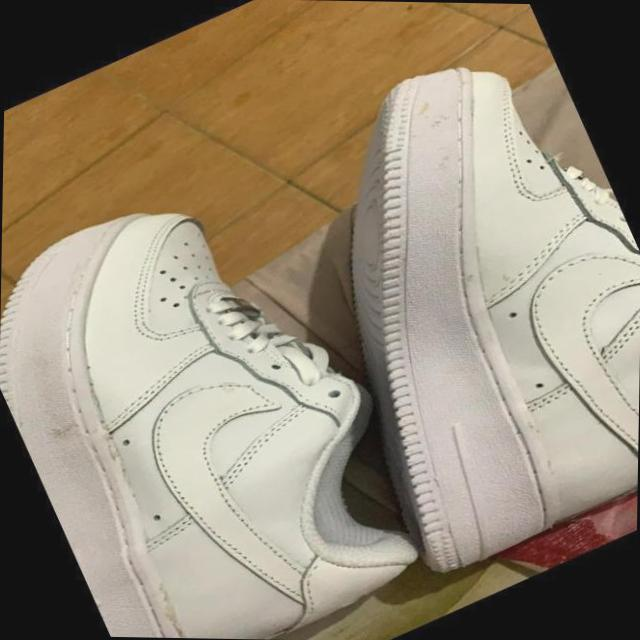nike_original_airforce: (229, 12, 640, 586), (0, 142, 454, 640)
